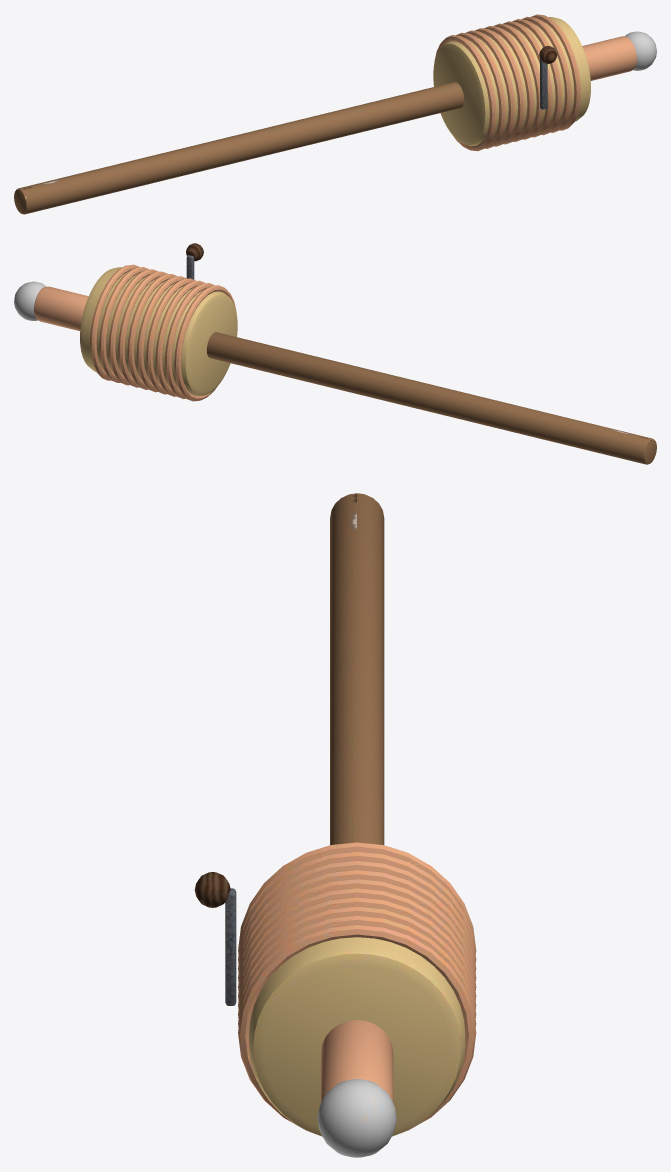
File: galvanicrod.glb
3 renders of one model, top to bottom at view 1: azimuth 30°, elevation 25°; view 2: azimuth 150°, elevation 25°; view 3: azimuth 270°, elevation 25°, orthographic. The views are drawn at different scales.
Parts seen in each view (by area): view 1: pole, housing, pole_tip, winding0, winding3, winding9, winding1, winding2, winding4, winding8, winding5, winding7 (+3 smaller); view 2: pole, housing, pole_tip, winding0, winding3, winding8, winding6, winding9, winding2, winding7, winding5, winding1 (+2 smaller); view 3: housing, pole, winding9, ball, pole_tip, winding1, winding4, winding5, winding3, winding6, winding8, winding0 (+4 smaller).
Part boxes in pixels (x1,y1,x2,y2): pole: (14, 82, 464, 214); housing: (433, 17, 590, 146); pole_tip: (582, 36, 636, 80); winding0: (434, 35, 496, 151); winding3: (475, 28, 524, 144); winding9: (531, 14, 580, 130); winding1: (456, 33, 505, 148); winding2: (465, 30, 515, 146); winding4: (484, 26, 534, 141); winding8: (522, 16, 571, 132); winding5: (493, 23, 542, 139); winding7: (512, 19, 562, 135); pole: (206, 332, 656, 464); housing: (80, 267, 237, 396); pole_tip: (34, 286, 88, 330); winding0: (174, 285, 236, 401); winding3: (146, 278, 195, 394); winding8: (99, 267, 149, 382); winding6: (118, 271, 167, 387); winding9: (90, 264, 139, 380); winding2: (155, 280, 205, 396); winding7: (108, 269, 158, 385); winding5: (127, 274, 176, 389); winding1: (165, 283, 214, 398); housing: (249, 937, 465, 1136); pole: (330, 493, 384, 844); winding9: (238, 924, 476, 1130); ball: (317, 1079, 396, 1157); pole_tip: (321, 1020, 393, 1102); winding1: (238, 851, 476, 963); winding4: (238, 879, 476, 990); winding5: (238, 888, 476, 999); winding3: (238, 869, 476, 981); winding6: (238, 897, 476, 1008); winding8: (238, 915, 476, 1027); winding0: (238, 842, 476, 953).
Bounding box in the file's own units: 0.812 × 0.141 × 0.156.
Materials: 1 (1 with a texture image).
